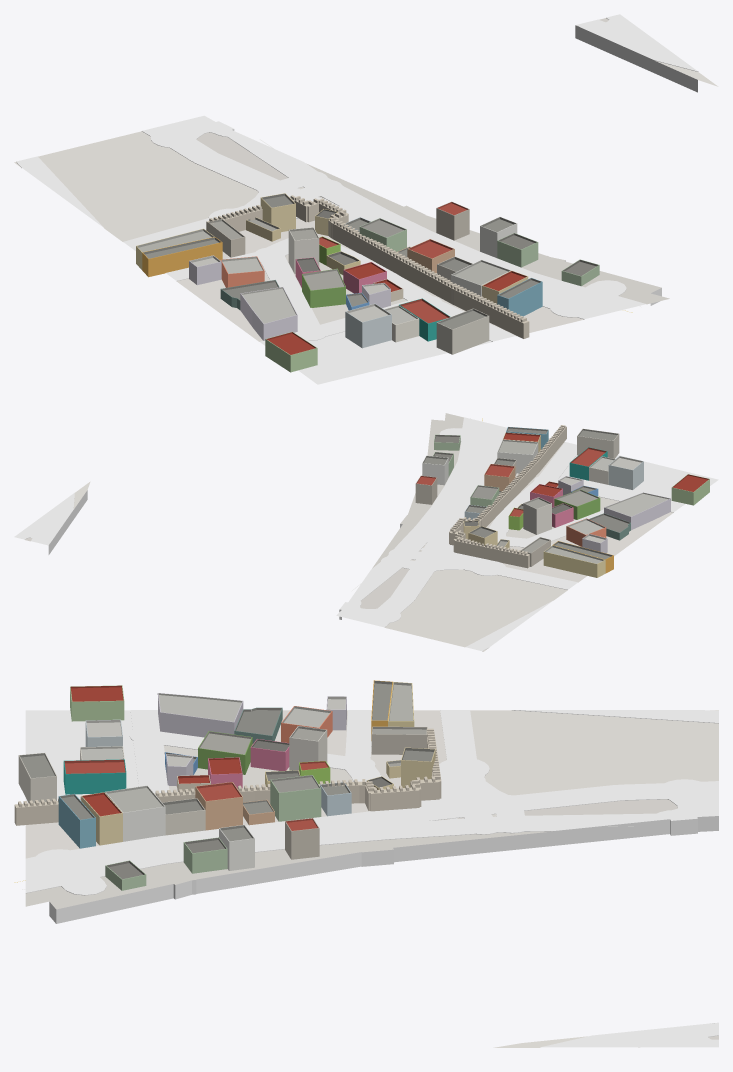
The picture shows the model from 3 angles, top to bottom: view 1: azimuth 30°, elevation 25°; view 2: azimuth 150°, elevation 25°; view 3: azimuth 270°, elevation 25°; orthographic projection. The views are drawn at different scales.
Visible parts, largest first — view 1: ground, sidewalk, walls, roofs, stone, plaza, coast; view 2: sidewalk, ground, walls, roofs, stone, plaza, coast; view 3: sidewalk, ground, walls, roofs, coast, stone, plaza.
Boxes of the visible parts, left/top/right/bottom form: ground: left=14, top=18, right=718, bottom=341; sidewalk: left=16, top=14, right=698, bottom=345; walls: left=136, top=198, right=599, bottom=372; roofs: left=136, top=193, right=599, bottom=355; stone: left=206, top=195, right=529, bottom=338; plaza: left=298, top=331, right=491, bottom=384; coast: left=232, top=25, right=697, bottom=305; sidewalk: left=14, top=417, right=682, bottom=651; ground: left=25, top=413, right=673, bottom=651; walls: left=415, top=430, right=709, bottom=577; roofs: left=416, top=427, right=709, bottom=563; stone: left=449, top=425, right=566, bottom=568; plaza: left=559, top=455, right=718, bottom=505; coast: left=48, top=490, right=402, bottom=619; sidewalk: left=25, top=710, right=718, bottom=1047; ground: left=25, top=710, right=718, bottom=1047; walls: left=18, top=689, right=435, bottom=890; roofs: left=19, top=680, right=435, bottom=879; coast: left=49, top=816, right=718, bottom=923; stone: left=14, top=728, right=441, bottom=825; plaza: left=25, top=710, right=138, bottom=803.
Size of what is drawn, in the model's own units: 257 by 18.13 by 221.
